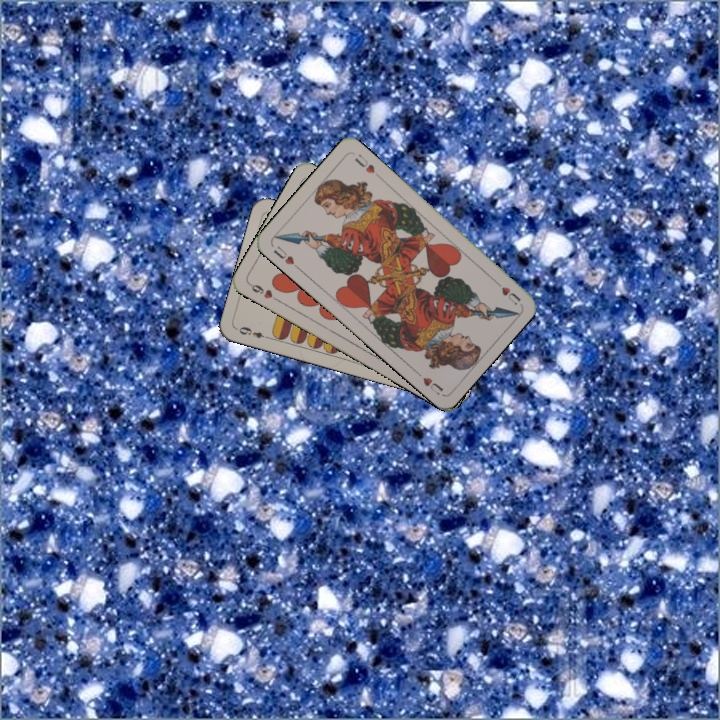E9: (235, 322, 273, 342)
H9: (245, 279, 283, 305)
HU: (490, 275, 524, 307), (269, 242, 302, 272)
